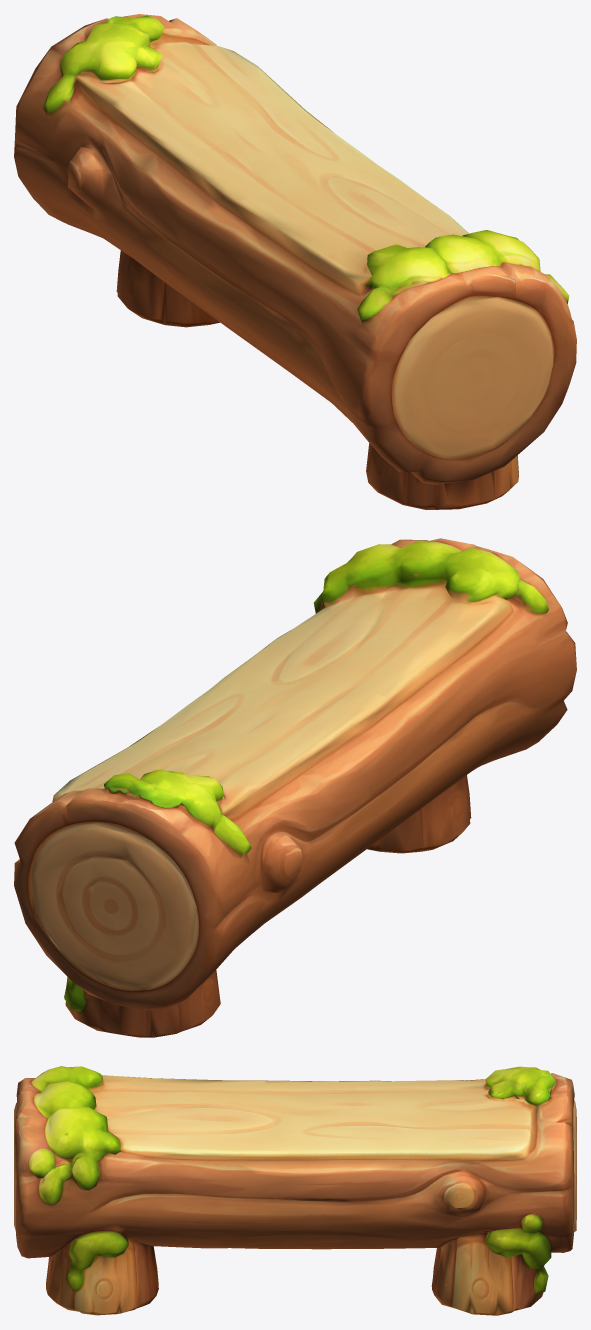
The model's file is Kit_M_LogBench_raw.glb.
The picture shows the model from 3 angles, top to bottom: view 1: azimuth 30°, elevation 25°; view 2: azimuth 150°, elevation 25°; view 3: azimuth 270°, elevation 25°; orthographic projection. The views are drawn at different scales.
Visible parts, largest first — view 1: tripo_node_bf58a9f3-6168-4acc-8a85-9f92fb104670; view 2: tripo_node_bf58a9f3-6168-4acc-8a85-9f92fb104670; view 3: tripo_node_bf58a9f3-6168-4acc-8a85-9f92fb104670.
Part boxes in pixels (x1,y1,x2,y2): tripo_node_bf58a9f3-6168-4acc-8a85-9f92fb104670: (14, 14, 576, 509); tripo_node_bf58a9f3-6168-4acc-8a85-9f92fb104670: (14, 538, 576, 1037); tripo_node_bf58a9f3-6168-4acc-8a85-9f92fb104670: (14, 1066, 576, 1315).
Bounding box in the file's own units: 0.3594 × 0.4024 × 1.
Materials: 1 (1 with a texture image).
